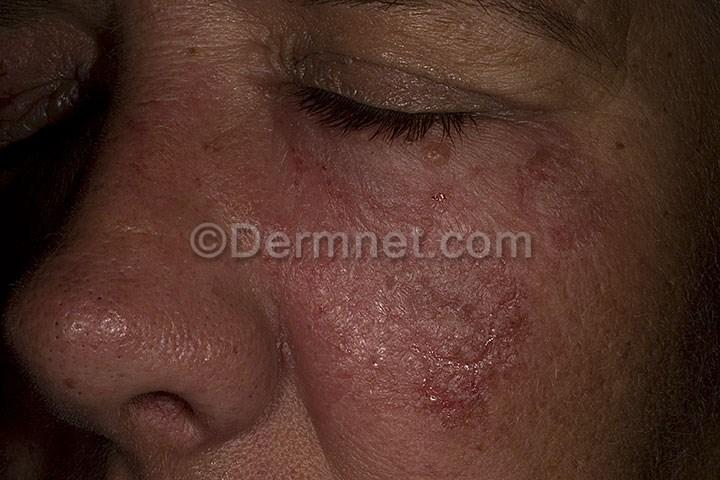Eczema: (340, 158, 418, 226), (426, 262, 494, 327), (294, 289, 346, 373), (483, 382, 539, 452), (432, 382, 492, 447), (243, 232, 294, 307), (290, 137, 346, 205), (536, 252, 584, 322), (348, 232, 401, 294), (227, 179, 283, 237), (388, 362, 440, 424), (471, 154, 517, 223), (337, 328, 391, 384), (285, 246, 347, 294), (263, 320, 311, 382), (399, 227, 475, 266), (387, 282, 424, 362), (444, 333, 498, 387), (576, 224, 619, 291), (219, 84, 283, 128), (249, 132, 303, 184), (333, 293, 399, 334), (522, 198, 571, 253), (620, 313, 661, 378), (477, 253, 535, 298), (511, 363, 569, 408), (517, 131, 570, 180), (294, 183, 342, 233), (497, 298, 534, 362), (73, 328, 135, 366), (190, 172, 239, 220), (121, 253, 177, 295), (582, 176, 629, 226), (119, 69, 171, 113), (197, 126, 244, 174), (36, 298, 81, 343), (129, 169, 173, 215), (410, 139, 461, 177), (206, 335, 249, 380), (207, 267, 244, 318), (154, 319, 195, 365), (118, 118, 161, 161), (181, 40, 225, 82), (419, 190, 461, 232), (93, 163, 127, 208), (79, 211, 117, 247), (574, 339, 622, 366), (306, 374, 349, 399), (72, 268, 104, 297)
